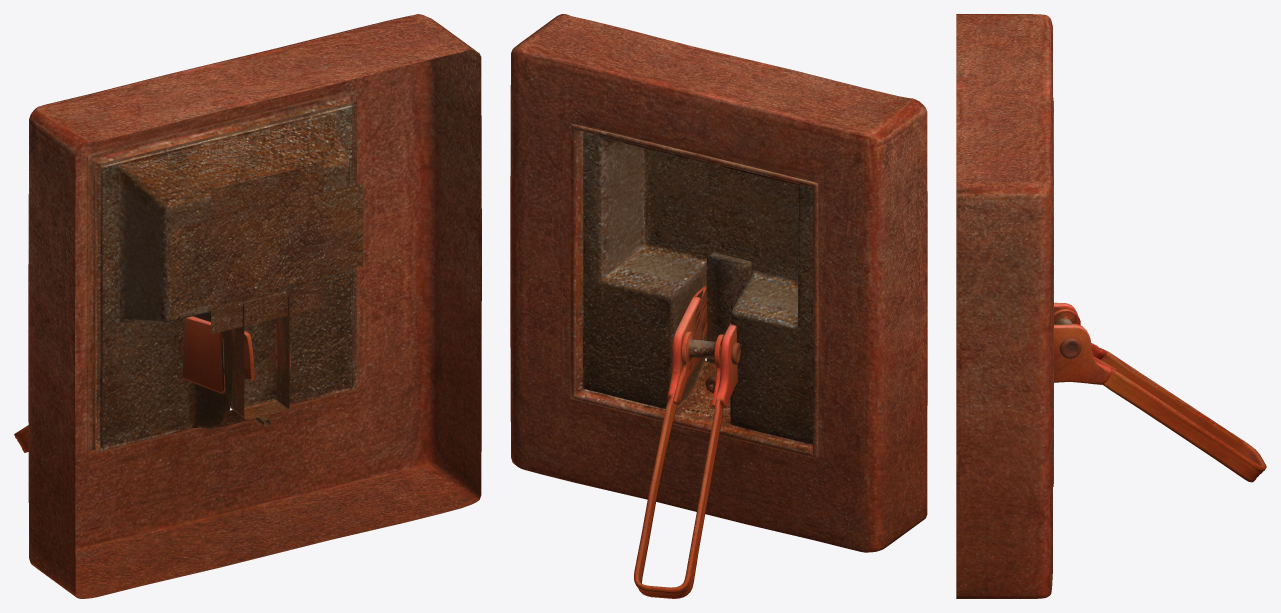
The model's file is Alavanca.glb.
3 renders of one model, left to right at view 1: azimuth 30°, elevation 25°; view 2: azimuth 150°, elevation 25°; view 3: azimuth 270°, elevation 25°, orthographic. The views are drawn at different scales.
Parts seen in each view (by area): view 1: Caixa, Manivela; view 2: Caixa, Manivela; view 3: Caixa, Manivela.
Boxes of the visible parts, <box> form: Caixa: <box>28,14,481,598</box>; Manivela: <box>14,316,290,452</box>; Caixa: <box>510,14,927,552</box>; Manivela: <box>634,286,740,598</box>; Caixa: <box>956,14,1053,598</box>; Manivela: <box>1054,302,1266,482</box>.
Bounding box in the file's own units: 0.5212 × 0.56 × 0.3794.
2 materials, 2 textured.
